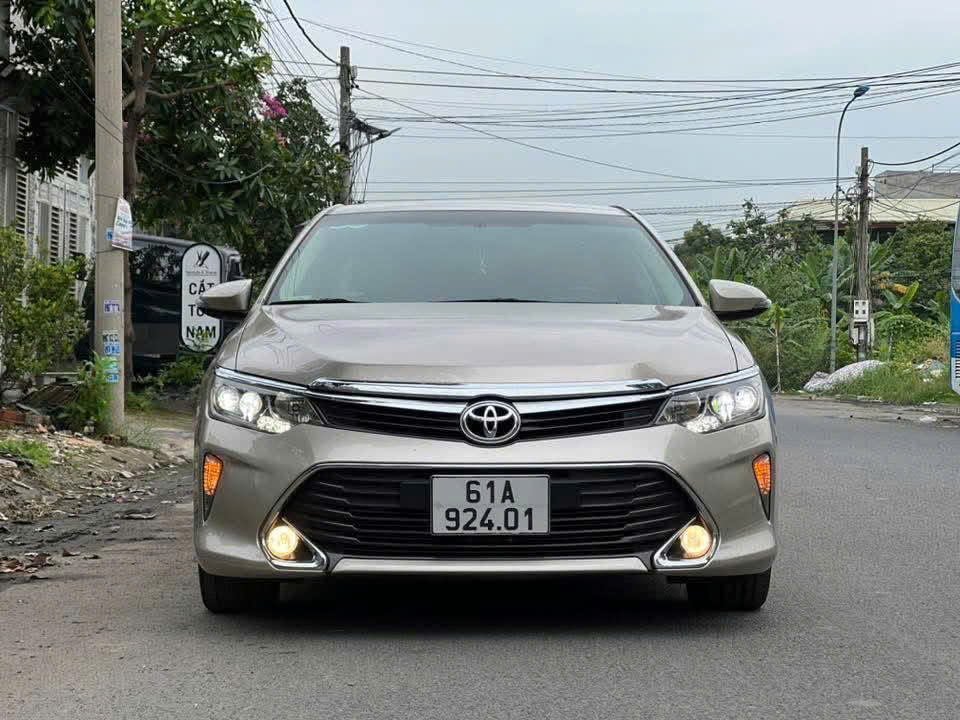Bien-so: (429, 473, 553, 535)
